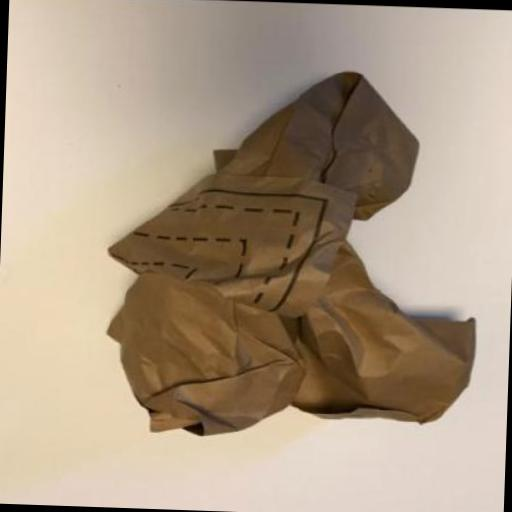paper: (96, 64, 482, 446)
